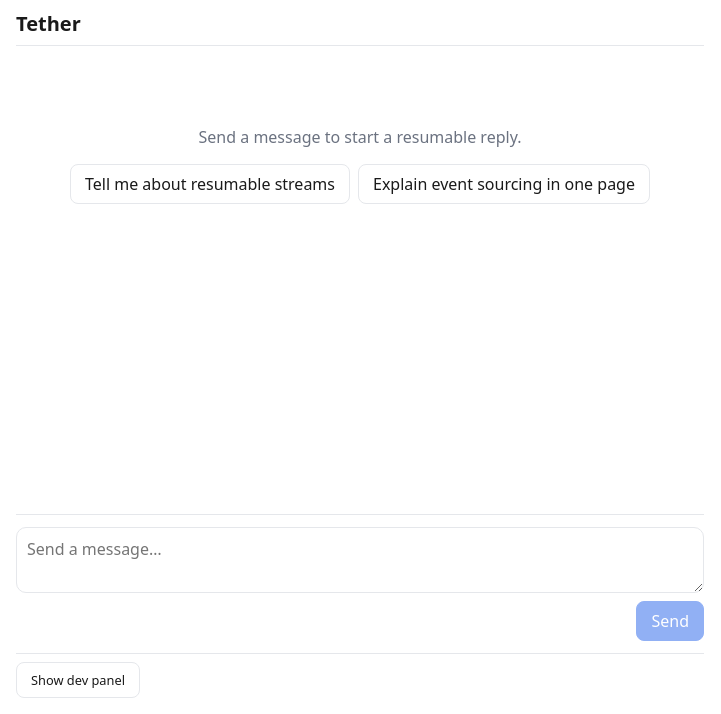
Test: App › shows a failed run with its partial text and the failure note
The image size is (721, 714).
Type "hi" into the text box at (360, 560), box [16, 527, 704, 593]
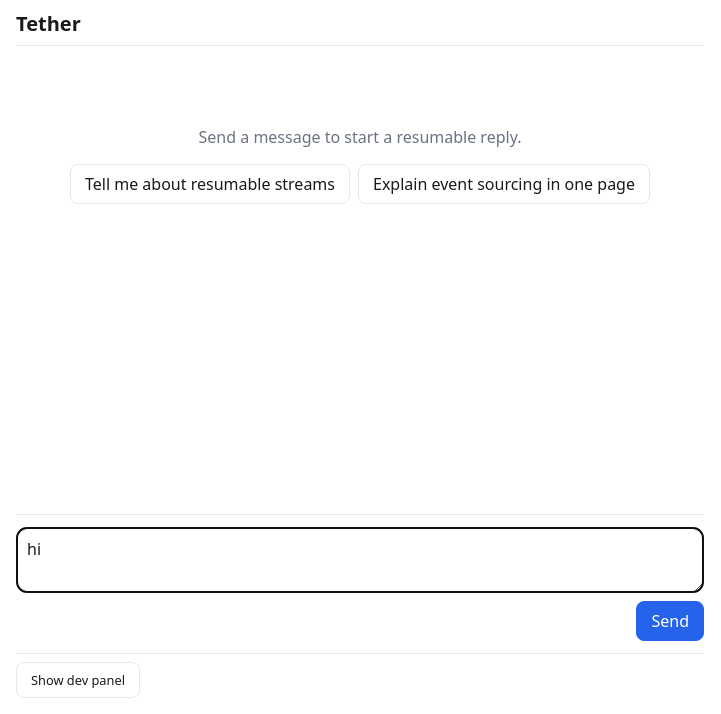
Click the button "Send" at (670, 621), box [636, 601, 704, 641]
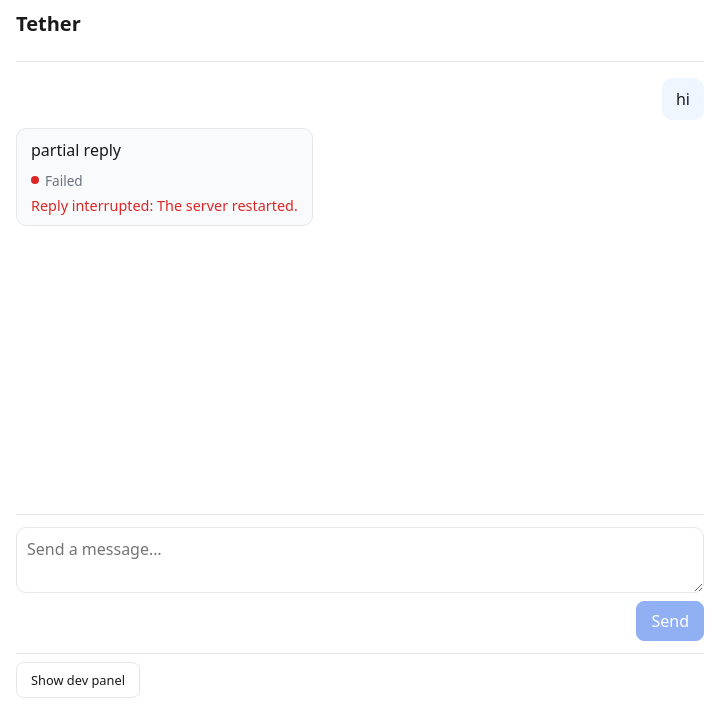
Expected: the text "partial reply" is shown, [31, 139, 121, 161]
Expected: the text "Failed" is shown, [31, 170, 83, 190]
Expected: the message shows "The server restarted.", [157, 196, 298, 214]
